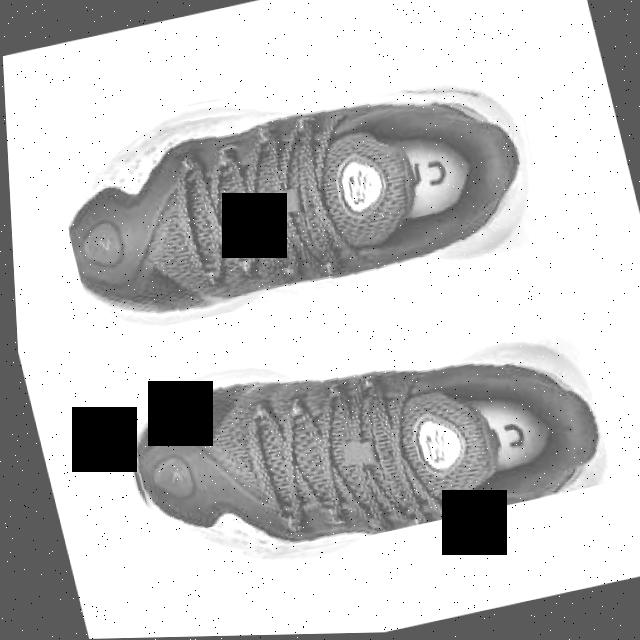shoe: (39, 31, 559, 343), (103, 286, 612, 583)
